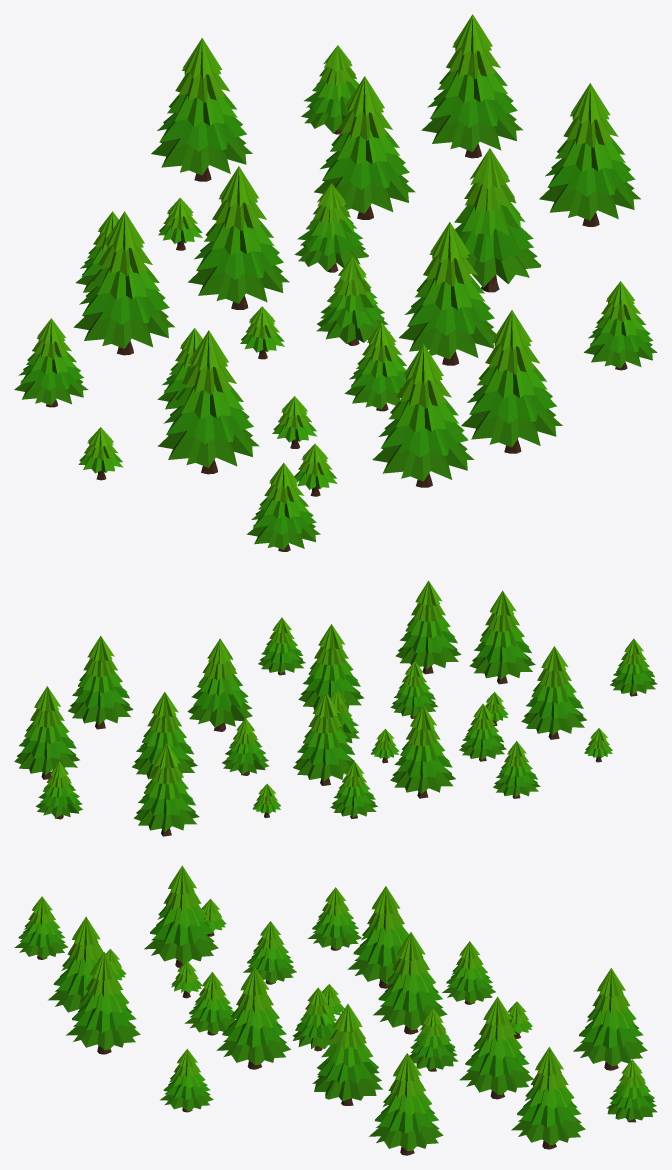
Rendered from forest-right.obj.
The picture shows the model from 3 angles, top to bottom: view 1: azimuth 30°, elevation 25°; view 2: azimuth 150°, elevation 25°; view 3: azimuth 270°, elevation 25°; orthographic projection. The views are drawn at different scales.
Visible parts, largest first — view 1: Folha-Arvore.162_Circle.162, Folha-Arvore.182_Circle.182, Folha-Arvore.157_Circle.157, Folha-Arvore.127_Circle.127, Folha-Arvore.167_Circle.167, Folha-Arvore.012_Circle.021, Folha-Arvore.132_Circle.132, Folha-Arvore.056_Circle.015, Folha-Arvore.069_Circle.069, Folha-Arvore.055_Circle.011, Folha-Arvore.094_Circle.094, Folha-Arvore.131_Circle.131 (+55 smaller); view 2: Folha-Arvore.132_Circle.132, Folha-Arvore.127_Circle.127, Folha-Arvore.056_Circle.015, Folha-Arvore.182_Circle.182, Folha-Arvore.162_Circle.162, Folha-Arvore.082_Circle.082, Folha-Arvore.012_Circle.021, Folha-Arvore.167_Circle.167, Folha-Arvore.157_Circle.157, Folha-Arvore.081_Circle.081, Folha-Arvore.126_Circle.126, Folha-Arvore.156_Circle.156 (+59 smaller); view 3: Folha-Arvore.082_Circle.082, Folha-Arvore.095_Circle.095, Folha-Arvore.157_Circle.157, Folha-Arvore.012_Circle.021, Folha-Arvore.069_Circle.069, Folha-Arvore.162_Circle.162, Folha-Arvore.132_Circle.132, Folha-Arvore.182_Circle.182, Folha-Arvore.068_Circle.068, Folha-Arvore.181_Circle.181, Folha-Arvore.166_Circle.166, Folha-Arvore.161_Circle.161 (+60 smaller).
Boxes of the visible parts, bbox=[...] form: Folha-Arvore.162_Circle.162: bbox=[539, 182, 640, 220]; Folha-Arvore.182_Circle.182: bbox=[157, 429, 259, 467]; Folha-Arvore.157_Circle.157: bbox=[421, 113, 523, 151]; Folha-Arvore.127_Circle.127: bbox=[73, 310, 174, 348]; Folha-Arvore.167_Circle.167: bbox=[188, 265, 289, 303]; Folha-Arvore.012_Circle.021: bbox=[461, 409, 562, 447]; Folha-Arvore.132_Circle.132: bbox=[151, 137, 252, 175]; Folha-Arvore.056_Circle.015: bbox=[372, 443, 474, 481]; Folha-Arvore.069_Circle.069: bbox=[399, 321, 495, 359]; Folha-Arvore.055_Circle.011: bbox=[378, 419, 468, 457]; Folha-Arvore.094_Circle.094: bbox=[320, 151, 409, 189]; Folha-Arvore.131_Circle.131: bbox=[157, 113, 246, 151]; Folha-Arvore.132_Circle.132: bbox=[133, 805, 199, 831]; Folha-Arvore.127_Circle.127: bbox=[390, 767, 455, 793]; Folha-Arvore.056_Circle.015: bbox=[469, 653, 535, 679]; Folha-Arvore.182_Circle.182: bbox=[521, 708, 586, 735]; Folha-Arvore.162_Circle.162: bbox=[68, 698, 133, 724]; Folha-Arvore.082_Circle.082: bbox=[187, 702, 252, 727]; Folha-Arvore.012_Circle.021: bbox=[395, 643, 461, 669]; Folha-Arvore.167_Circle.167: bbox=[293, 754, 354, 781]; Folha-Arvore.157_Circle.157: bbox=[14, 748, 79, 775]; Folha-Arvore.081_Circle.081: bbox=[191, 688, 248, 712]; Folha-Arvore.126_Circle.126: bbox=[394, 755, 452, 778]; Folha-Arvore.156_Circle.156: bbox=[19, 736, 76, 759]; Folha-Arvore.082_Circle.082: bbox=[312, 1073, 382, 1101]; Folha-Arvore.095_Circle.095: bbox=[459, 1065, 533, 1094]; Folha-Arvore.157_Circle.157: bbox=[511, 1115, 585, 1144]; Folha-Arvore.012_Circle.021: bbox=[66, 1021, 140, 1049]; Folha-Arvore.069_Circle.069: bbox=[216, 1036, 290, 1065]; Folha-Arvore.162_Circle.162: bbox=[369, 1122, 443, 1151]; Folha-Arvore.132_Circle.132: bbox=[573, 1037, 647, 1065]; Folha-Arvore.182_Circle.182: bbox=[144, 934, 218, 963]; Folha-Arvore.068_Circle.068: bbox=[222, 1020, 286, 1047]; Folha-Arvore.181_Circle.181: bbox=[150, 918, 214, 946]; Folha-Arvore.166_Circle.166: bbox=[378, 985, 442, 1012]; Folha-Arvore.161_Circle.161: bbox=[375, 1106, 438, 1133].
Size of the model in its own units: 24.85 by 4.87 by 28.15.
